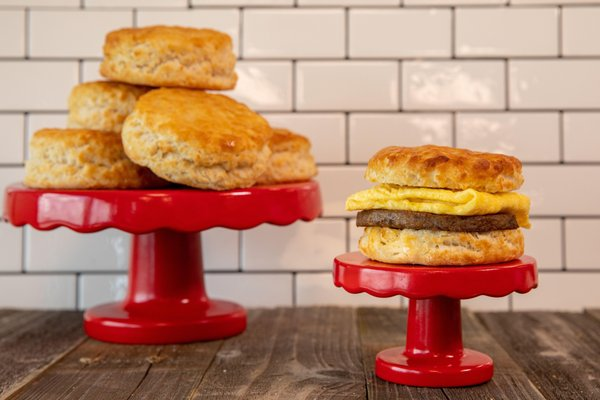soup: (9, 35, 322, 343)
